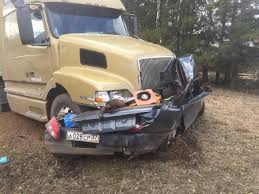car: (19, 4, 219, 163)
